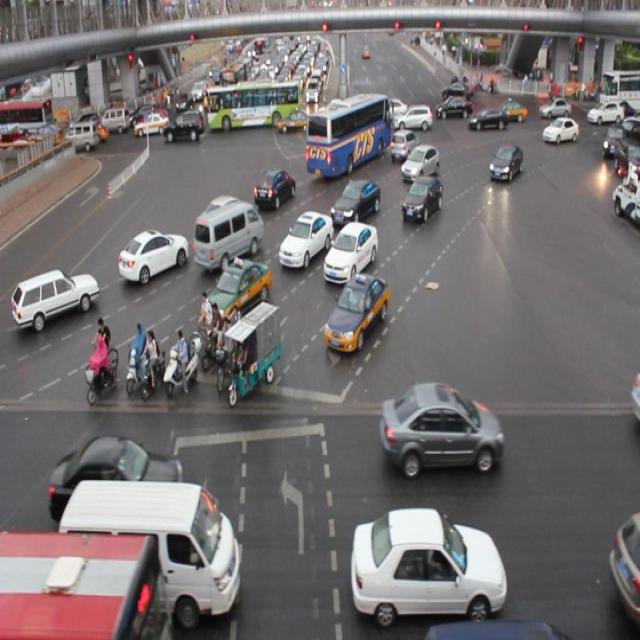car: (349, 503, 507, 618), (380, 380, 504, 476), (50, 436, 184, 518), (11, 265, 100, 329), (324, 272, 389, 355), (604, 507, 640, 640), (204, 257, 274, 324), (118, 227, 189, 284), (321, 220, 378, 284), (278, 212, 333, 268), (330, 179, 381, 225), (197, 194, 250, 236), (401, 175, 443, 221), (254, 168, 297, 208), (400, 142, 439, 180), (488, 142, 523, 182), (542, 117, 578, 144), (390, 126, 416, 158)
truck: (60, 477, 242, 629), (195, 203, 263, 271)
van: (1, 525, 172, 640), (306, 94, 390, 176)
